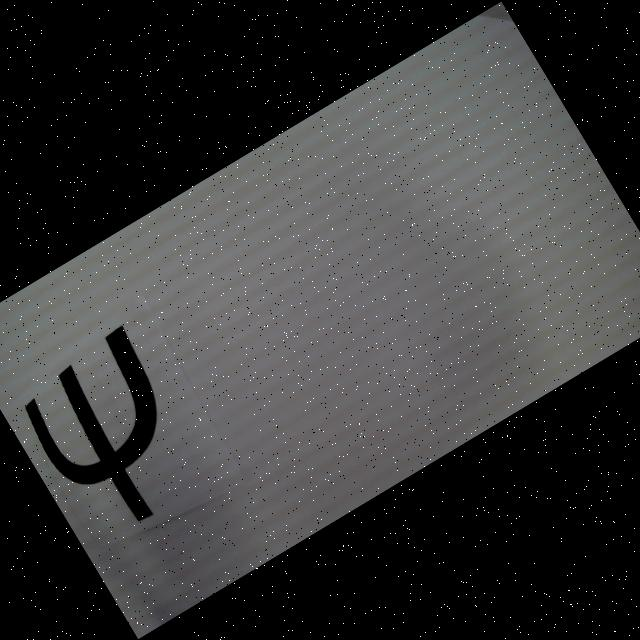PSI: (9, 324, 214, 545)
